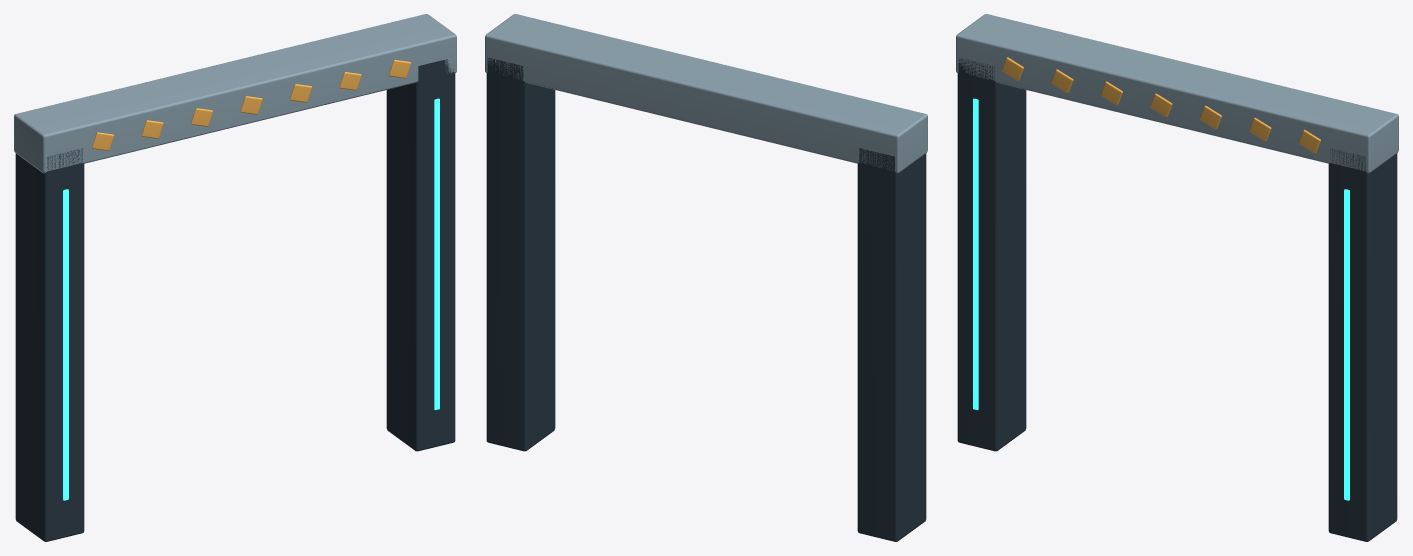
Rendered from reactor_arch.glb.
The picture shows the model from 3 angles, left to right: view 1: azimuth 30°, elevation 25°; view 2: azimuth 150°, elevation 25°; view 3: azimuth 330°, elevation 25°; orthographic projection.
Parts seen in each view (by area): view 1: Truss lintel, Portal pier, Portal pier.001, Pier ion inset.001, Pier ion inset; view 2: Truss lintel, Portal pier, Portal pier.001; view 3: Truss lintel, Portal pier, Portal pier.001, Pier ion inset, Pier ion inset.001.
Boxes of the visible parts, x1,y1,x2,y2 form: Truss lintel: [14, 14, 456, 173]; Portal pier: [15, 148, 84, 541]; Portal pier.001: [386, 59, 455, 451]; Pier ion inset.001: [434, 98, 439, 410]; Pier ion inset: [63, 189, 68, 500]; Truss lintel: [485, 14, 927, 173]; Portal pier: [857, 148, 926, 541]; Portal pier.001: [486, 57, 555, 451]; Truss lintel: [956, 14, 1398, 173]; Portal pier: [957, 58, 1026, 451]; Portal pier.001: [1328, 148, 1397, 541]; Pier ion inset: [973, 98, 978, 410]; Pier ion inset.001: [1344, 189, 1349, 500].
Size of the model in its own units: 6.7 by 6.3 by 0.895.
